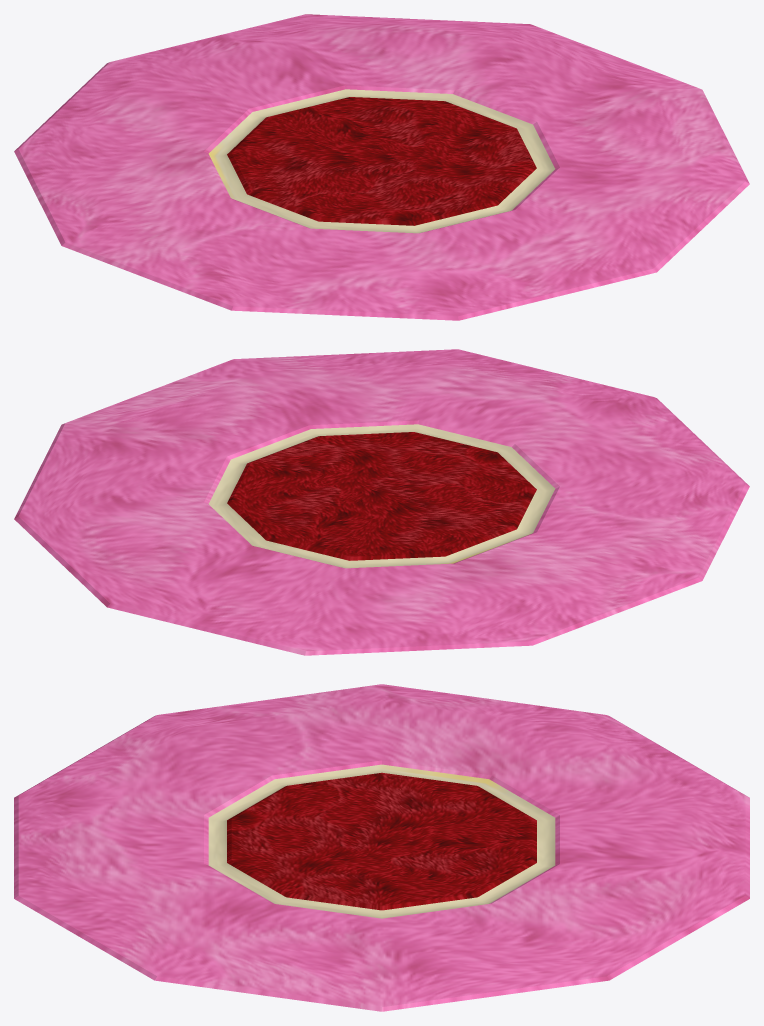
Rendered from Circular_Carpet_03_B.FBX.
3 views of the same model, one above another, from view 1: azimuth 30°, elevation 25°; view 2: azimuth 150°, elevation 25°; view 3: azimuth 270°, elevation 25° (orthographic). The views are drawn at different scales.
Parts seen in each view (by area): view 1: Circular_Carpet; view 2: Circular_Carpet; view 3: Circular_Carpet.
Part boxes in pixels (box(x1,y1,x2,y2)): Circular_Carpet: box(14, 14, 749, 320); Circular_Carpet: box(14, 349, 749, 655); Circular_Carpet: box(14, 684, 749, 1011).
Bounding box in the file's own units: 316 × 4.05 × 300.
